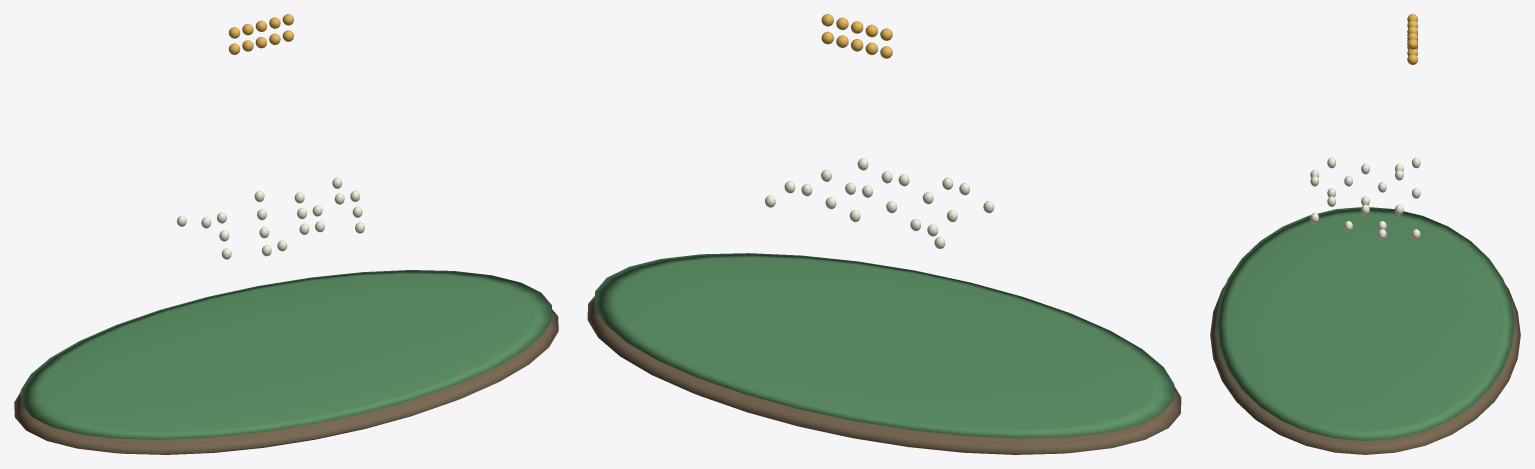
File: complete-third-all-salt-cues.glb
The picture shows the model from 3 angles, left to right: view 1: azimuth 30°, elevation 25°; view 2: azimuth 150°, elevation 25°; view 3: azimuth 270°, elevation 25°; orthographic projection. The views are drawn at different scales.
Visible parts, largest first — view 1: complete-third-all-salt-cues_surface_01, complete-third-all-salt-cues_surface_00, complete-third-all-salt-cues_surface_02, complete-third-all-salt-cues_surface_03; view 2: complete-third-all-salt-cues_surface_01, complete-third-all-salt-cues_surface_00, complete-third-all-salt-cues_surface_02, complete-third-all-salt-cues_surface_03; view 3: complete-third-all-salt-cues_surface_01, complete-third-all-salt-cues_surface_00, complete-third-all-salt-cues_surface_02, complete-third-all-salt-cues_surface_03.
Boxes of the visible parts, bbox=[...] form: complete-third-all-salt-cues_surface_01: bbox=[20, 270, 552, 439]; complete-third-all-salt-cues_surface_00: bbox=[14, 309, 558, 454]; complete-third-all-salt-cues_surface_02: bbox=[177, 177, 364, 259]; complete-third-all-salt-cues_surface_03: bbox=[228, 14, 293, 54]; complete-third-all-salt-cues_surface_01: bbox=[594, 253, 1174, 438]; complete-third-all-salt-cues_surface_00: bbox=[587, 296, 1181, 454]; complete-third-all-salt-cues_surface_02: bbox=[765, 158, 994, 248]; complete-third-all-salt-cues_surface_03: bbox=[821, 14, 892, 58]; complete-third-all-salt-cues_surface_01: bbox=[1216, 207, 1514, 440]; complete-third-all-salt-cues_surface_00: bbox=[1210, 284, 1520, 454]; complete-third-all-salt-cues_surface_02: bbox=[1310, 157, 1420, 239]; complete-third-all-salt-cues_surface_03: bbox=[1407, 14, 1417, 64].
Bounding box in the file's own units: 4.56 × 2.87 × 2.5.
